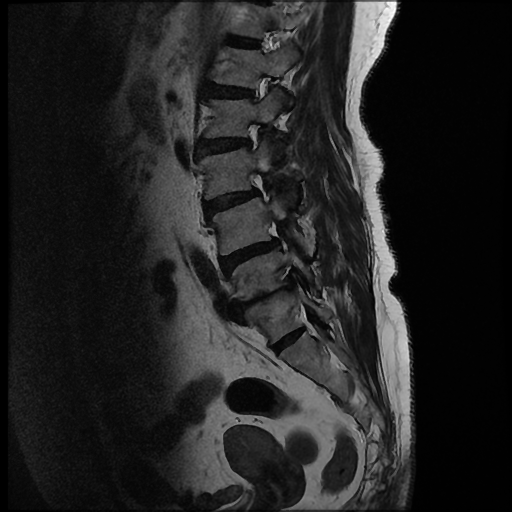LFS0: (236, 63, 282, 109), (234, 114, 279, 161)
LFS1: (239, 162, 284, 208)
